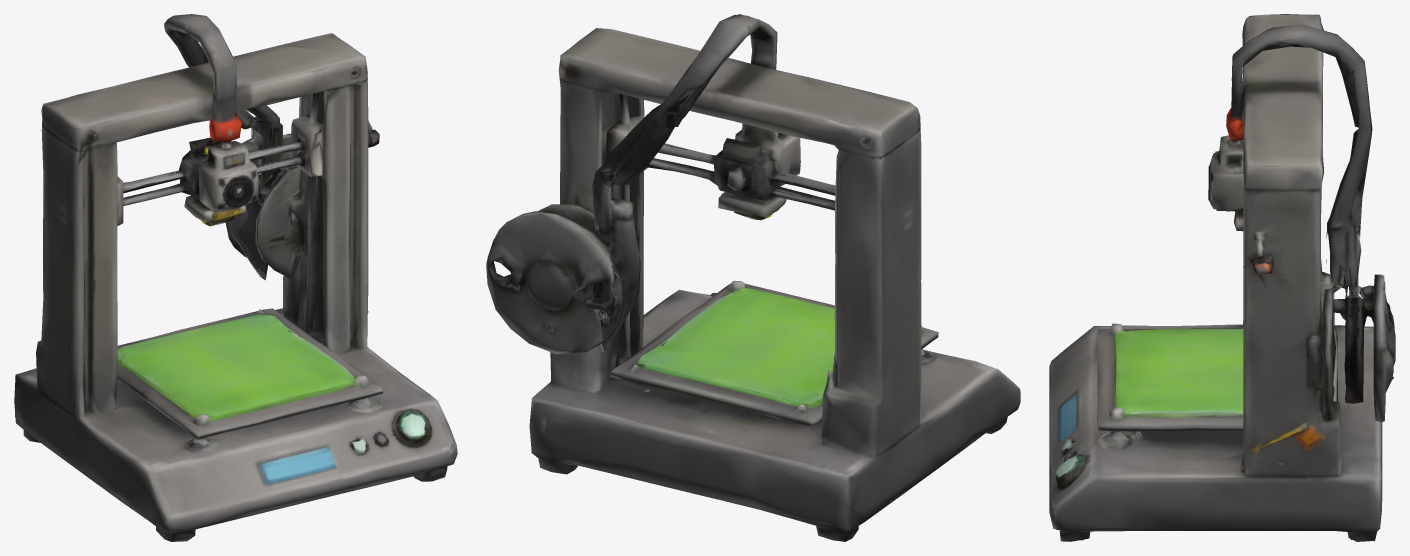
Rendered from special_3DPrinter.glb.
3 renders of one model, left to right at view 1: azimuth 30°, elevation 25°; view 2: azimuth 150°, elevation 25°; view 3: azimuth 270°, elevation 25°, orthographic. The views are drawn at different scales.
Visible parts, largest first — view 1: world; view 2: world; view 3: world.
Boxes of the visible parts, left/top/right/bottom form: world: left=14, top=14, right=457, bottom=541; world: left=486, top=14, right=1020, bottom=541; world: left=1049, top=14, right=1395, bottom=541.
Size of the model in its own units: 0.8384 by 1 by 0.7094.
1 material, 1 textured.
